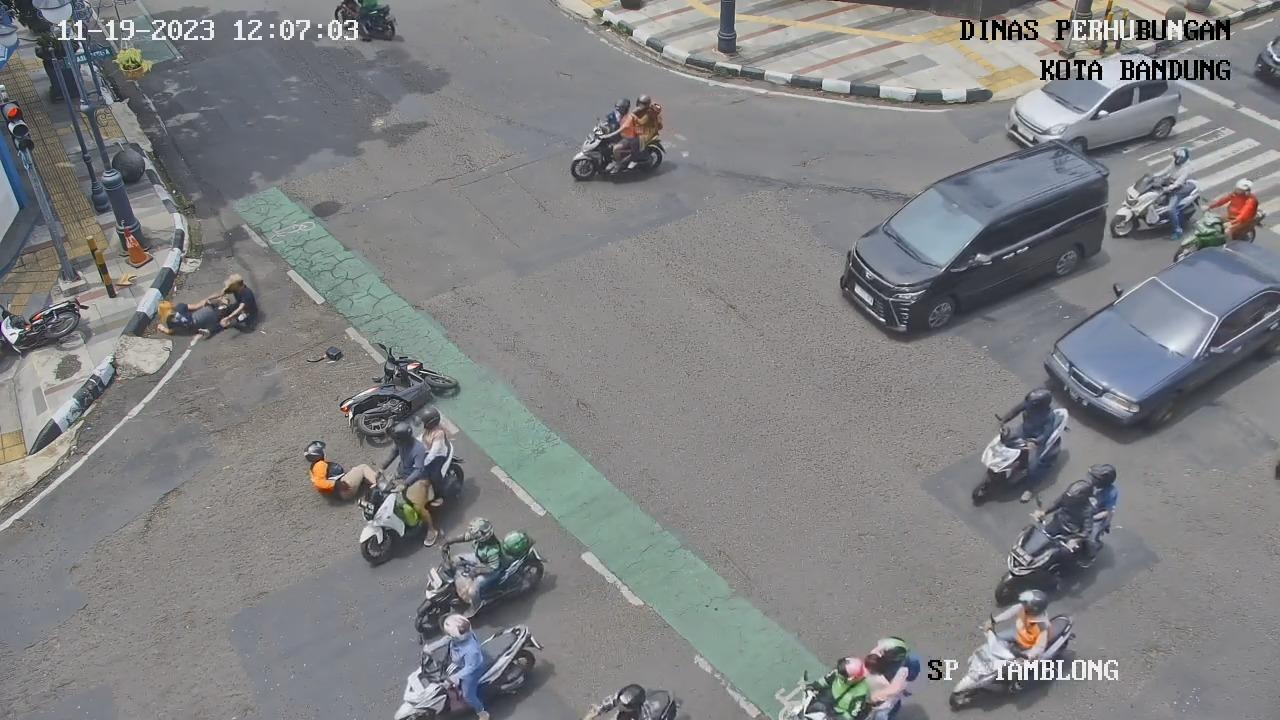accident: (297, 430, 380, 509), (217, 270, 275, 340), (152, 290, 223, 345)
